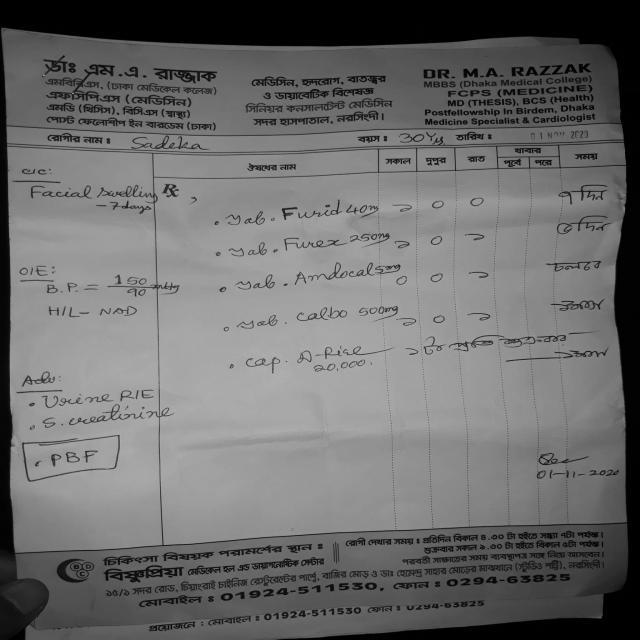medicine: (289, 263, 378, 286), (278, 195, 346, 222), (292, 338, 366, 362), (278, 233, 344, 256), (292, 300, 349, 323)
